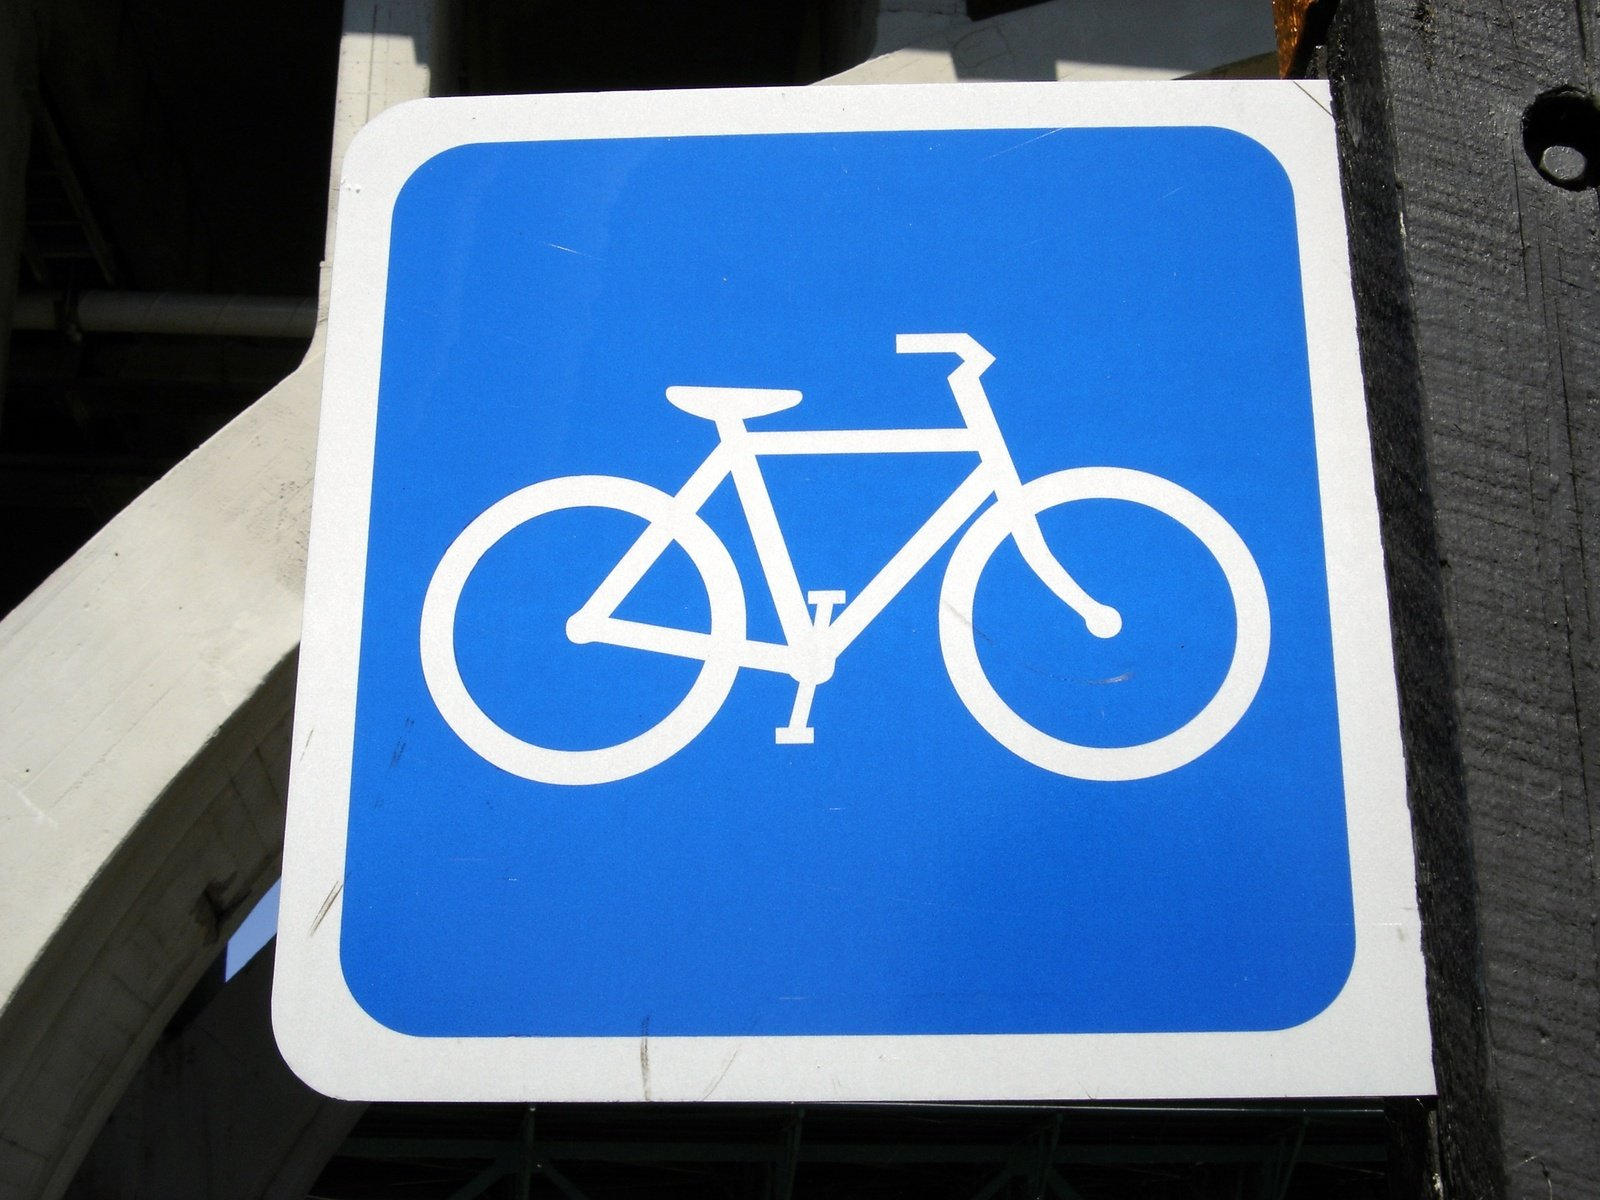Bicycle: (367, 171, 1311, 995)
